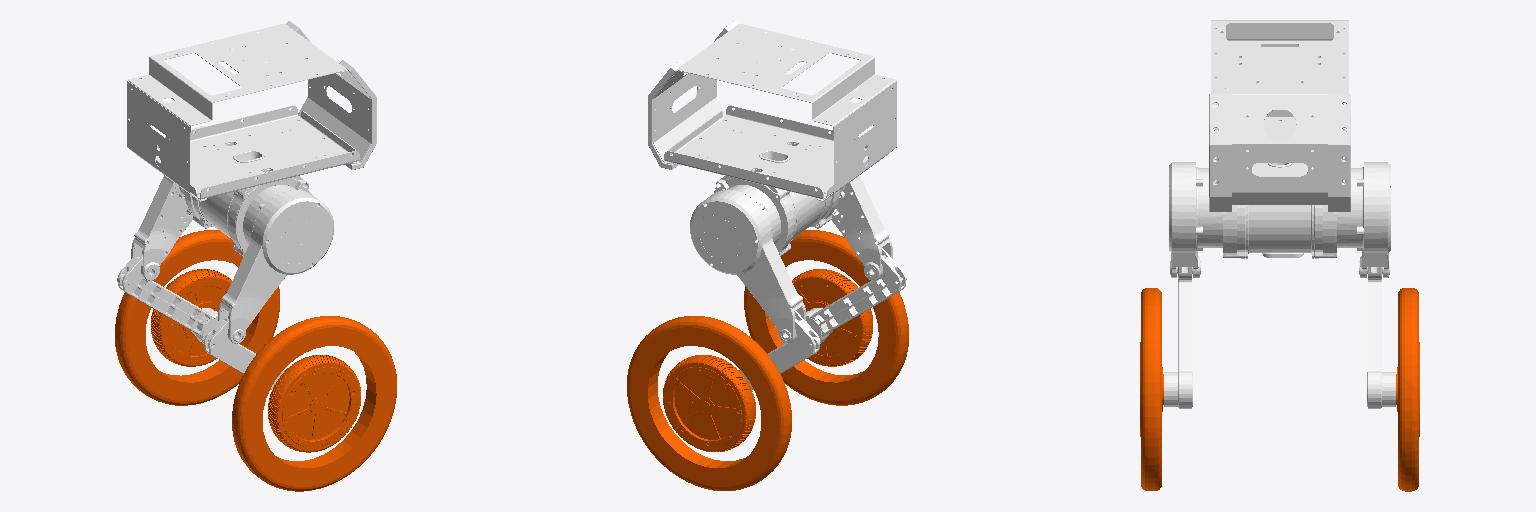
robot.urdf — diablo_pluspro:
<?xml version="1.0" encoding="utf-8"?>
<!-- This URDF was automatically created by SolidWorks to URDF Exporter! Originally created by [author] ([email redacted]) 
     Commit Version: 1.6.0-4-g7f85cfe  Build Version: 1.6.7995.38578
     For more information, please see http://wiki.ros.org/sw_urdf_exporter -->
<robot
  name="diablo_pluspro">
  <material name="black">
    <color rgba="0.0 0.0 0.0 1.0"/>
  </material>
  <material name="blue">
      <color rgba="0.0 0.0 0.8 1.0"/>
  </material>
  <material name="green">
      <color rgba="0.0 0.8 0.0 1.0"/>
  </material>
  <material name="grey">
      <color rgba="0.2 0.2 0.2 1.0"/>
  </material>
  <material name="silver">
      <color rgba="0.9137254901960784 0.9137254901960784 0.8470588235294118 1.0"/>
  </material>
  <material name="orange">
      <color rgba="1.0 0.4235294117647059 0.0392156862745098 1.0"/>
  </material>
  <material name="brown">
      <color rgba="0.8705882352941177 0.8117647058823529 0.7647058823529411 1.0"/>
  </material>
  <material name="red">
      <color rgba="0.8 0.0 0.0 1.0"/>
  </material>
  <material name="white">
      <color rgba="1.0 1.0 1.0 1.0"/>
  </material>
  <link
    name="base_link">
    <inertial>
      <origin
        xyz="0.0028918 -0.00051043 0.10837"
        rpy="0 0 0" />
      <mass
        value="16.387" />
      <inertia
        ixx="0.60138"
        ixy="0.061341"
        ixz="-0.0046441"
        iyy="0.61933"
        iyz="-0.0029737"
        izz="0.35943" />
    </inertial>
    <visual>
      <origin
        xyz="0 0 0"
        rpy="0 0 0" />
      <geometry>
        <mesh
          filename="../meshes/base_link.STL" />
      </geometry>
      <material
        name="">
        <color
          rgba="1 1 1 1" />
      </material>
    </visual>
    <collision>
      <origin
        xyz="0 0 0"
        rpy="0 0 0" />
      <geometry>
        <mesh
          filename="../meshes/base_link.STL" />
      </geometry>
    </collision>
  </link>
  <link
    name="left_hip_link">
    <inertial>
      <origin
        xyz="-0.011467728 -0.02835837 -0.012566631"
        rpy="0 0 0" />
      <mass
        value="2.3922754" />
      <inertia
        ixx="0.0070710282"
        ixy="0.000789506"
        ixz="-0.0028025098"
        iyy="0.01026065"
        iyz="0.00084909219"
        izz="0.0064323139" />
    </inertial>
    <visual>
      <origin
        xyz="0 0 0"
        rpy="0 0 0" />
      <geometry>
        <mesh
          filename="../meshes/left_hip_link.STL" />
      </geometry>
      <material
        name="">
        <color
          rgba="1 1 1 1" />
      </material>
    </visual>
    <collision>
      <origin
        xyz="0 0 0"
        rpy="0 0 0" />
      <geometry>
        <mesh
          filename="../meshes/left_hip_link.STL" />
      </geometry>
    </collision>
  </link>
  <joint
    name="left_hip_joint"
    type="revolute">
    <origin
      xyz="0 0.14844 0"
      rpy="0 0 0" />
    <parent
      link="base_link" />
    <child
      link="left_hip_link" />
    <axis
      xyz="0 1 0" />
    <limit
      lower="-1.57"
      upper="1.57"
      effort="60"
      velocity="15" />
  </joint>
  <link
    name="left_knee_link">
    <inertial>
      <origin
        xyz="0.05294369 -0.0059746 -0.081982"
        rpy="0 0 0" />
      <mass
        value="0.55812" />
      <inertia
        ixx="0.0025243498"
        ixy="-0.00017563529"
        ixz="0.0022661712"
        iyy="0.0049635874"
        iyz="0.00017430388"
        izz="0.0025562876" />
    </inertial>
    <visual>
      <origin
        xyz="0 0 0"
        rpy="0 0 0" />
      <geometry>
        <mesh
          filename="../meshes/left_knee_link.STL" />
      </geometry>
      <material
        name="">
        <color
          rgba="1 1 1 1" />
      </material>
    </visual>
    <collision>
      <origin
        xyz="0 0 0"
        rpy="0 0 0" />
      <geometry>
        <mesh
          filename="../meshes/left_knee_link.STL" />
      </geometry>
    </collision>
  </link>
  <joint
    name="left_knee_joint"
    type="revolute">
    <origin
      xyz="-0.12022 0 -0.15983"
      rpy="0 0 0" />
    <parent
      link="left_hip_link" />
    <child
      link="left_knee_link" />
    <axis
      xyz="0 1 0" />
    <limit
      lower="-1.19"
      upper="0"
      effort="60"
      velocity="15" />
  </joint>
 <link
    name="left_wheel_link">
    <inertial>
      <origin
        xyz="0 0.053106868 0"
        rpy="0 0 0" />
      <mass
        value="2.785" />
      <inertia
        ixx="0.037393423"
        ixy="3.1796E-07"
        ixz="0"
        iyy="0.073815378"
        iyz="0"
        izz="0.037393397" />
    </inertial>
    <visual>
      <origin
        xyz="0 0 0"
        rpy="0 0 0" />
      <geometry>
        <mesh
          filename="../meshes/left_wheel_link.STL" />
      </geometry>
      <material name="orange">
          <color rgba="1.0 0.4235294117647059 0.0392156862745098 1.0"/>
      </material>
    </visual>
    <collision>
      <origin
        xyz="0 0.053 0"
        rpy="1.5707963 0 0" />
      <geometry>
        <cylinder radius="0.16" length="0.035"/>
      </geometry>
    </collision>
  </link>
  <joint
    name="left_wheel_joint"
    type="revolute">
    <origin
      xyz="0.13397 0 -0.1485"
      rpy="0 0 0" />
    <parent
      link="left_knee_link" />
    <child
      link="left_wheel_link" />
    <axis
      xyz="0 1 0" />
    <limit
      lower="-1000000"
      upper="1000000"
      effort="20"
      velocity="30" />
  </joint>
  <link
    name="right_hip_link">
    <inertial>
      <origin
        xyz="-0.011467728 0.028358373 -0.012566631"
        rpy="0 0 0" />
      <mass
        value="2.3922754" />
      <inertia
        ixx="0.0070710282"
        ixy="0.000789506"
        ixz="-0.0028025098"
        iyy="0.01026065"
        iyz="0.00084909219"
        izz="0.0064323139" />
    </inertial>
    <visual>
      <origin
        xyz="0 0 0"
        rpy="0 0 0" />
      <geometry>
        <mesh
          filename="../meshes/right_hip_link.STL" />
      </geometry>
      <material
        name="">
        <color
          rgba="1 1 1 1" />
      </material>
    </visual>
    <collision>
      <origin
        xyz="0 0 0"
        rpy="0 0 0" />
      <geometry>
        <mesh
          filename="../meshes/right_hip_link.STL" />
      </geometry>
    </collision>
  </link>
  <joint
    name="right_hip_joint"
    type="revolute">
    <origin
      xyz="0 -0.1484 0"
      rpy="0 0 0" />
    <parent
      link="base_link" />
    <child
      link="right_hip_link" />
    <axis
      xyz="0 1 0" />
    <limit
      lower="-1.57"
      upper="1.57"
      effort="60"
      velocity="15" />
  </joint>
  <link
    name="right_knee_link">
   <inertial>
      <origin
        xyz="0.05294369 0.0059746 -0.081982"
        rpy="0 0 0" />
      <mass
        value="0.55812" />
      <inertia
        ixx="0.0025243498"
        ixy="-0.00017563529"
        ixz="0.0022661712"
        iyy="0.0049635874"
        iyz="0.00017430388"
        izz="0.0025562876" />
    </inertial>
    <visual>
      <origin
        xyz="0 0 0"
        rpy="0 0 0" />
      <geometry>
        <mesh
          filename="../meshes/right_knee_link.STL" />
      </geometry>
      <material
        name="">
        <color
          rgba="1 1 1 1" />
      </material>
    </visual>
    <collision>
      <origin
        xyz="0 0 0"
        rpy="0 0 0" />
      <geometry>
        <mesh
          filename="../meshes/right_knee_link.STL" />
      </geometry>
    </collision>
  </link>
  <joint
    name="right_knee_joint"
    type="revolute">
    <origin
      xyz="-0.12022 0 -0.15983"
      rpy="0 0 0" />
    <parent
      link="right_hip_link" />
    <child
      link="right_knee_link" />
    <axis
      xyz="0 1 0" />
    <limit
      lower="-1.19"
      upper="0"
      effort="60"
      velocity="15" />
  </joint>
  <link
    name="right_wheel_link">
    <inertial>
      <origin
        xyz="0 -0.053106868 0"
        rpy="0 0 0" />
      <mass
        value="2.785" />
      <inertia
        ixx="0.037393423"
        ixy="3.1796E-07"
        ixz="0"
        iyy="0.073815378"
        iyz="0"
        izz="0.037393397" />
    </inertial>
    <visual>
      <origin
        xyz="0 0 0"
        rpy="0 0 0" />
      <geometry>
        <mesh
          filename="../meshes/right_wheel_link.STL" />
      </geometry>
      <material name="orange">
          <color rgba="1.0 0.4235294117647059 0.0392156862745098 1.0"/>
      </material>
    </visual>
    <collision>
      <origin
        xyz="0 -0.053 0"
        rpy="1.5707963 0 0" />
      <geometry>
        <cylinder radius="0.16" length="0.035"/>
      </geometry>
    </collision>
  </link>
  <joint
    name="right_wheel_joint"
    type="revolute">
    <origin
      xyz="0.13397 0 -0.1485"
      rpy="0 0 0" />
    <parent
      link="right_knee_link" />
    <child
      link="right_wheel_link" />
    <axis
      xyz="0 1 0" />
    <limit
      lower="-1000000"
      upper="1000000"
      effort="20"
      velocity="30" />
  </joint>
</robot>

--- Render facts (derived) ---
3 views of the same robot in one strip: view 1: azimuth 30°, elevation 25°; view 2: azimuth 150°, elevation 25°; view 3: azimuth 270°, elevation 25° (orthographic).
Robot: diablo_pluspro — 7 links, 6 joints (6 revolute); root link base_link; default pose: every joint at zero.
Visible links, largest first — view 1: base_link, right_wheel_link, left_wheel_link, right_hip_link, left_hip_link, left_knee_link, right_knee_link; view 2: base_link, left_wheel_link, right_wheel_link, left_hip_link, right_hip_link, right_knee_link, left_knee_link; view 3: base_link, left_hip_link, right_hip_link, left_wheel_link, right_wheel_link, left_knee_link, right_knee_link.
Link boxes in pixels (x1,y1,x2,y2): base_link: (127, 21, 376, 256); right_wheel_link: (232, 316, 396, 491); left_wheel_link: (115, 230, 279, 405); right_hip_link: (218, 185, 333, 343); left_hip_link: (131, 126, 205, 280); left_knee_link: (117, 248, 217, 343); right_knee_link: (204, 311, 284, 389); base_link: (648, 21, 896, 256); left_wheel_link: (627, 316, 791, 490); right_wheel_link: (744, 230, 908, 405); left_hip_link: (690, 185, 805, 343); right_hip_link: (818, 126, 892, 280); right_knee_link: (806, 248, 906, 342); left_knee_link: (739, 311, 820, 389); base_link: (1209, 20, 1350, 258); left_hip_link: (1337, 162, 1390, 277); right_hip_link: (1169, 162, 1222, 277); left_wheel_link: (1396, 288, 1419, 491); right_wheel_link: (1140, 288, 1163, 490); left_knee_link: (1367, 267, 1395, 408); right_knee_link: (1164, 267, 1192, 408).
Bounding box of the posed robot: 0.371 × 0.4384 × 0.732 m (x, y, z).
7 mesh visuals loaded from 7 distinct referenced files (7 binary STL).
